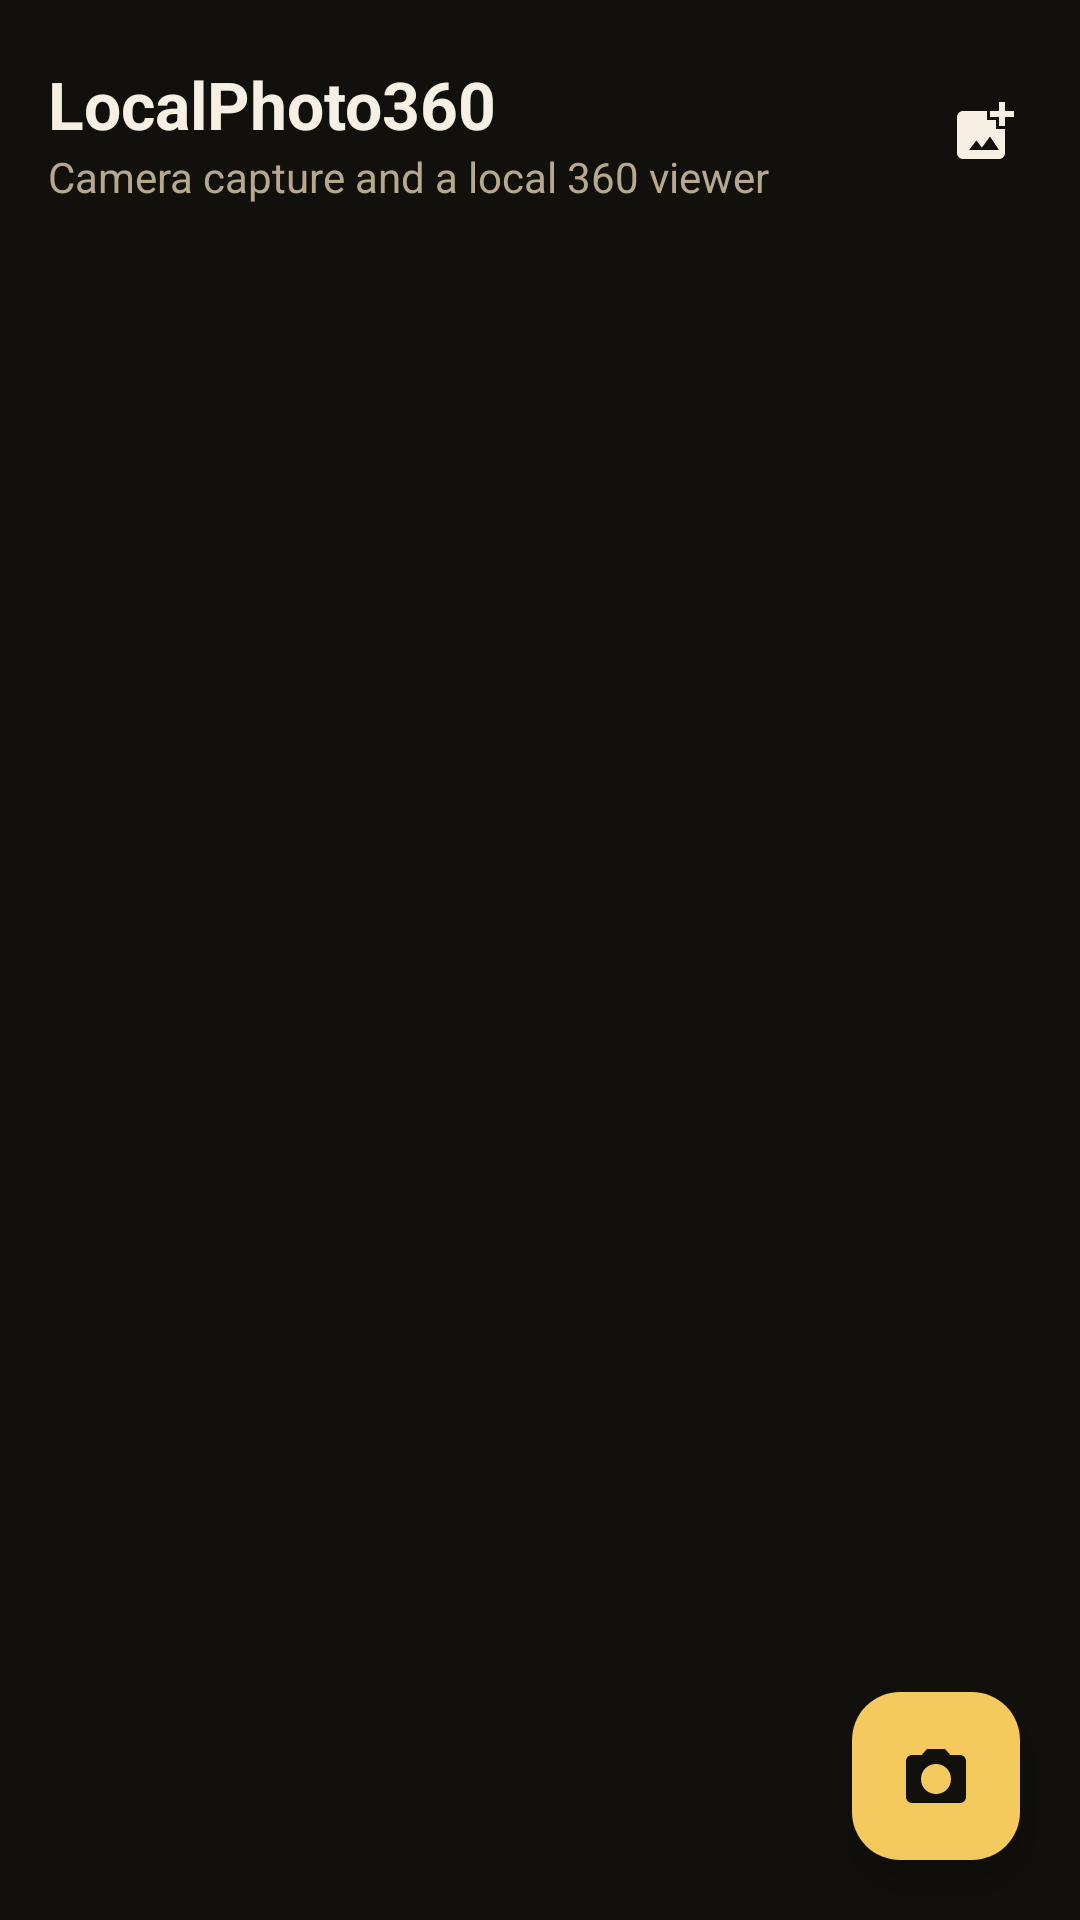

Icon bounding boxes for this 1080 × 1920 phone screenshot, format (x1, y1, x2, y2):
Capture: (852, 1692, 1020, 1860)
Import a 360 image: (957, 102, 1014, 159)
